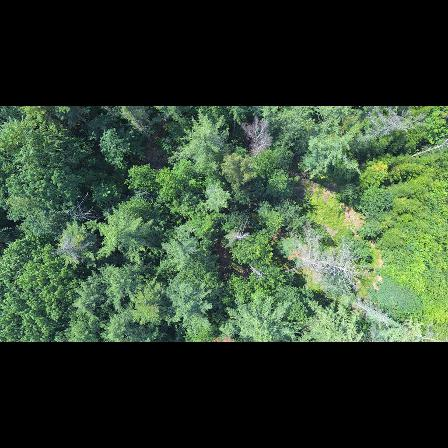Dead: (353, 106, 427, 146), (320, 242, 372, 289), (285, 222, 328, 277), (241, 114, 275, 162), (225, 220, 259, 245)
